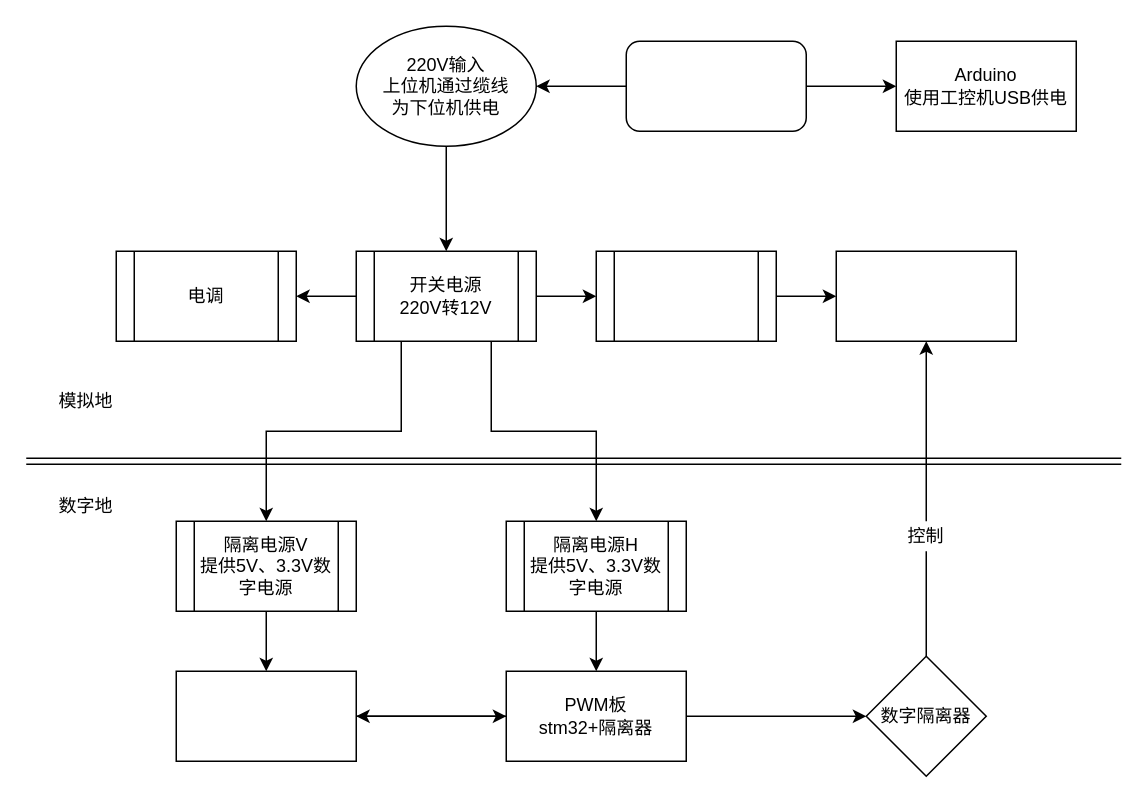
This 1148x803 diagram has some shape labels left out. The centre of each missing label's shape, as x and y in pixels:
工控机电源: (x=715, y=85)
控制板 OpenWrt+stm32: (x=265, y=715)
推进器: (x=925, y=295)
电源板 12V转6V: (x=685, y=295)
